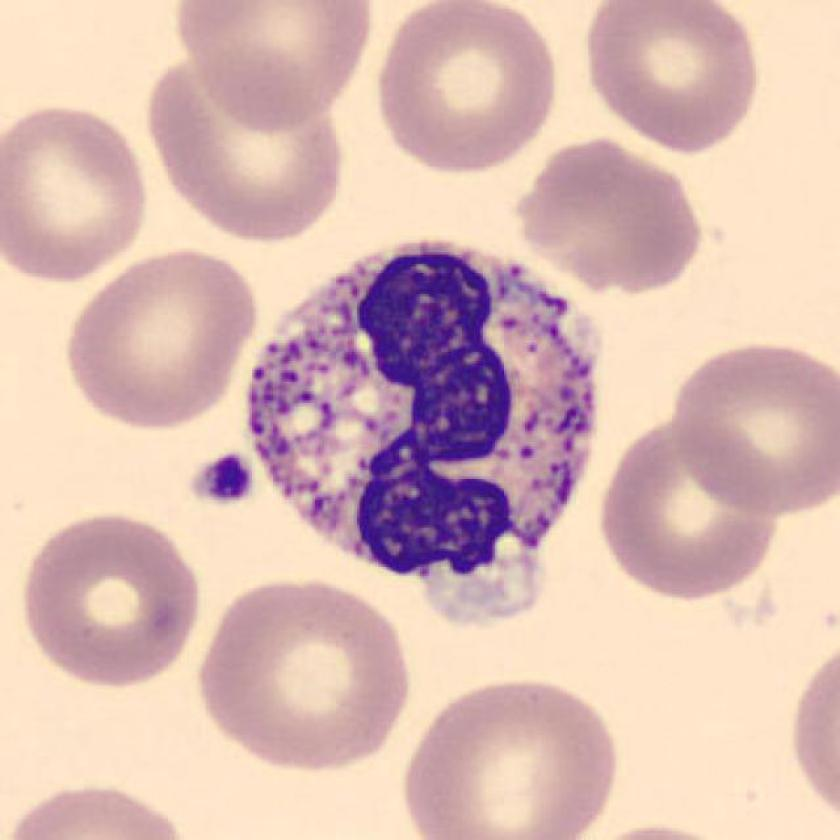neutrophil: (249, 246, 597, 629)
